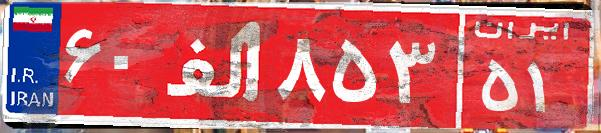0: (110, 28, 158, 105)
1: (525, 38, 570, 115)
3: (385, 28, 445, 110)
5: (330, 28, 385, 110), (475, 38, 525, 113)
6: (57, 26, 110, 107)
8: (273, 28, 330, 110)
الف: (158, 15, 273, 115)
